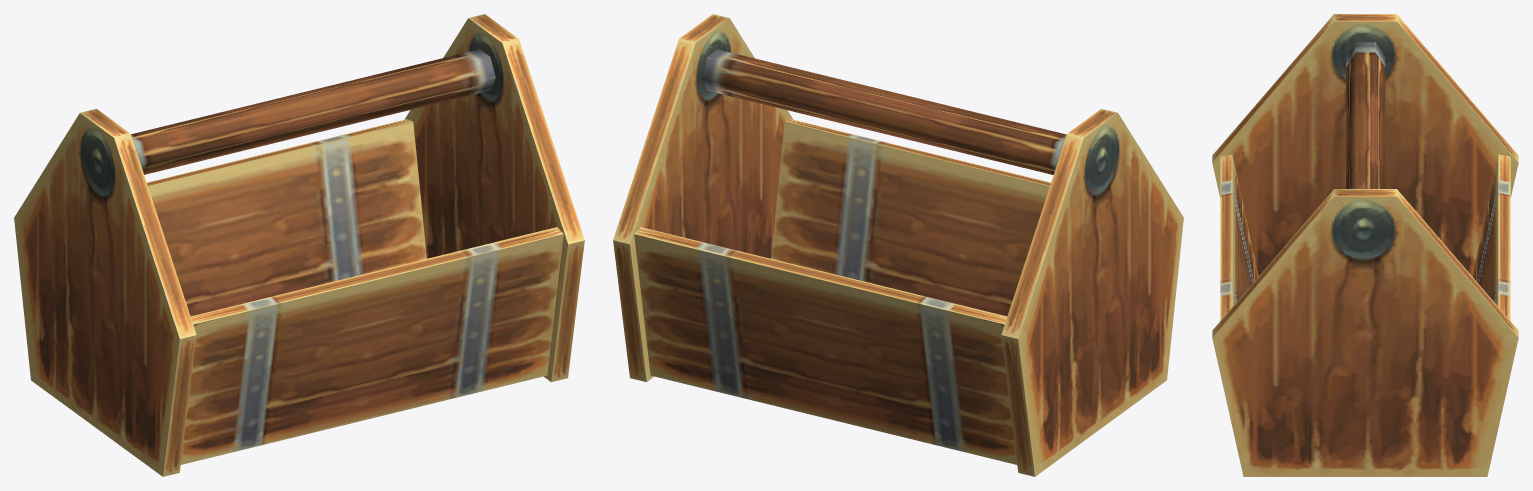
Rendered from toolbox01.obj.
The picture shows the model from 3 angles, left to right: view 1: azimuth 30°, elevation 25°; view 2: azimuth 150°, elevation 25°; view 3: azimuth 270°, elevation 25°; orthographic projection. The views are drawn at different scales.
Visible parts, largest first — view 1: toolbox01; view 2: toolbox01; view 3: toolbox01.
Boxes of the visible parts, x1,y1,x2,y2 form: toolbox01: [14, 14, 584, 476]; toolbox01: [613, 14, 1183, 476]; toolbox01: [1212, 14, 1518, 476].
Size of the model in its own units: 1.04 by 0.7428 by 0.7358.
